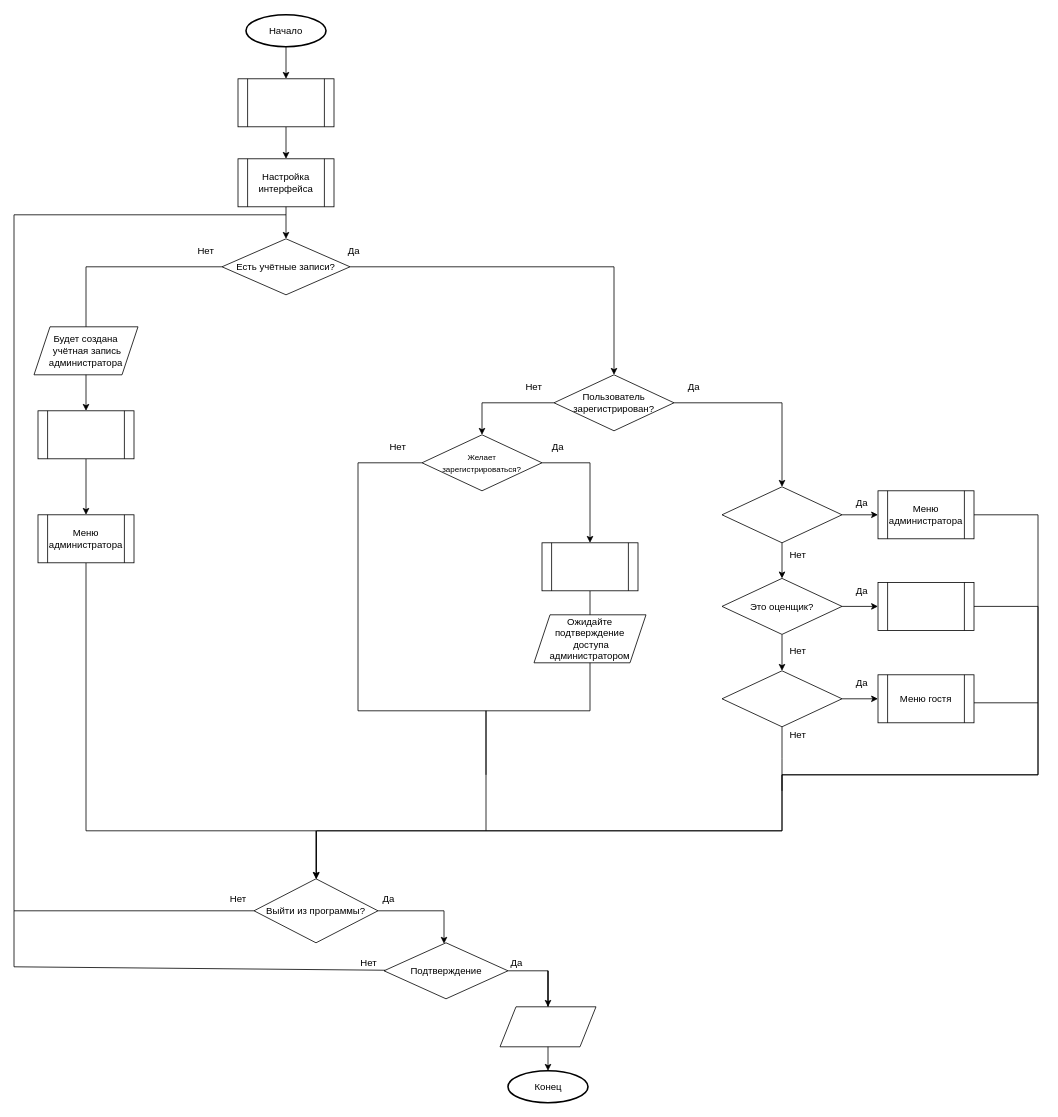
Image size: 1058x1117. Some labels were removed from this diagram. The shapes that lost their labels are listed below. From the top down, each one's centre as x and y in pixels, then its label:
At point (285, 102): "Загрузка данных".
At point (85, 434): "Регистрация нового администратора".
At point (781, 514): "Это администратор?".
At point (589, 566): "Регистрация нового пользователя".
At point (925, 606): "Меню оценщика".
At point (781, 698): "Это гость?".
At point (547, 1026): "Досвидания!".
